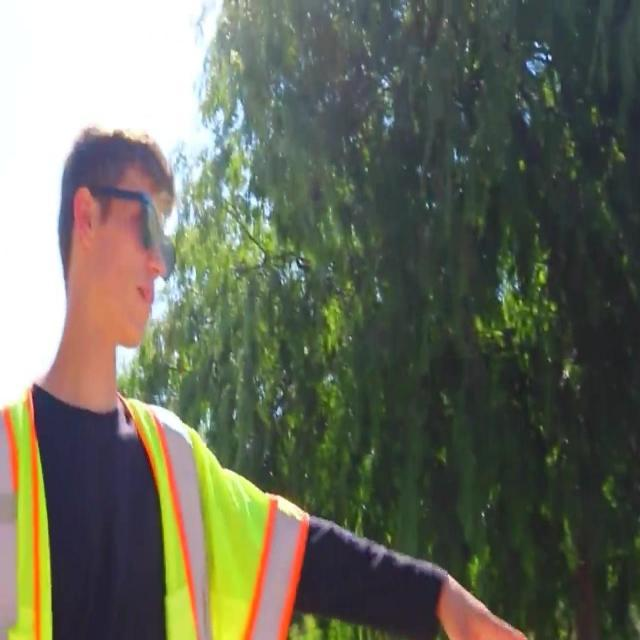reflective_jacket: (0, 379, 323, 639)
